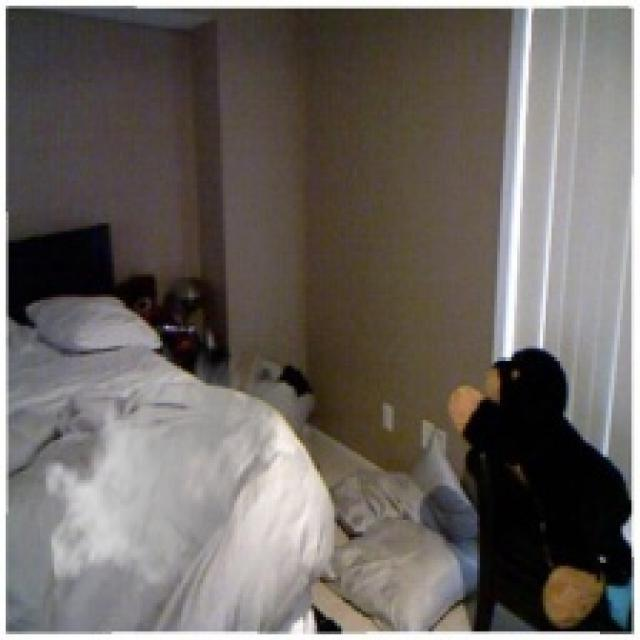Smoke: (43, 328, 286, 598)
